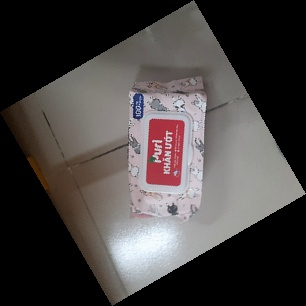Puri hong: (126, 76, 205, 225)
